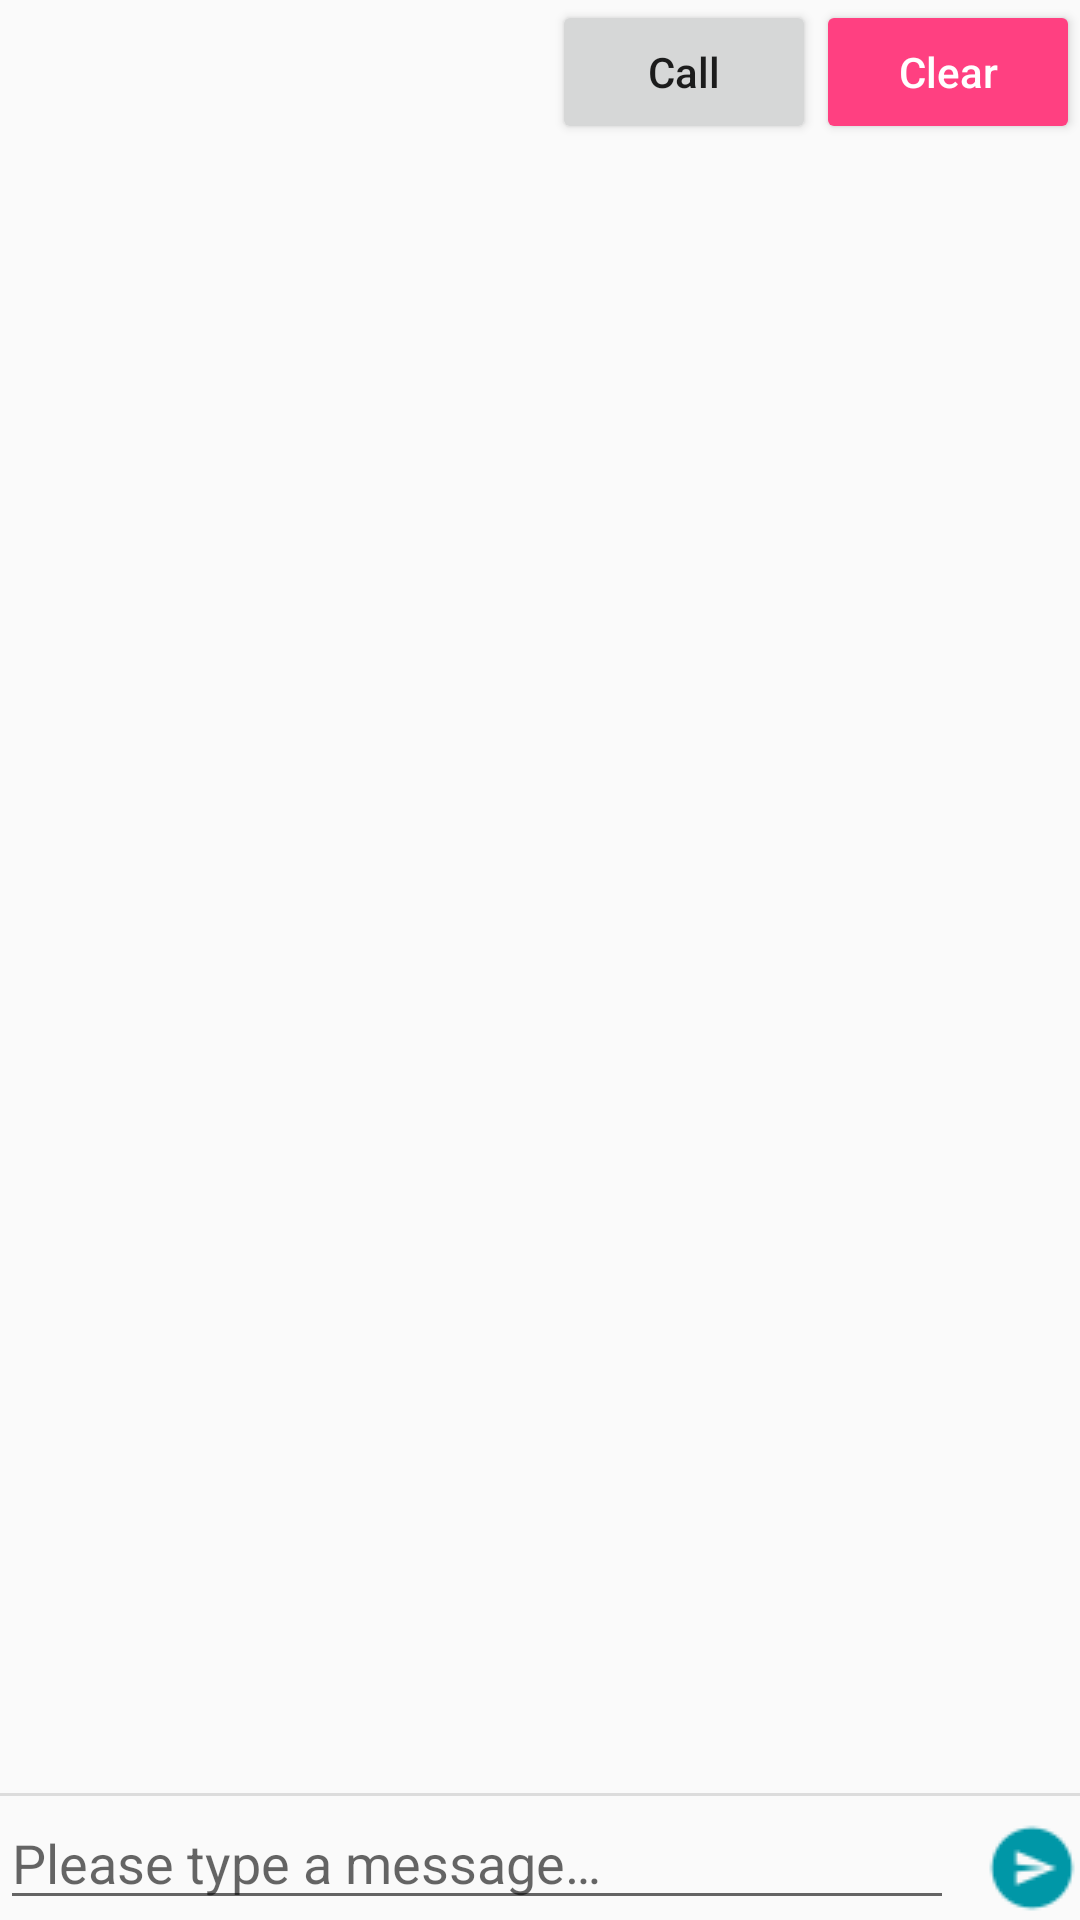

Where icons sit on this 1080px×1920px app screen, as (x1, y1, x2, y2):
send: (990, 1826, 1074, 1910)
